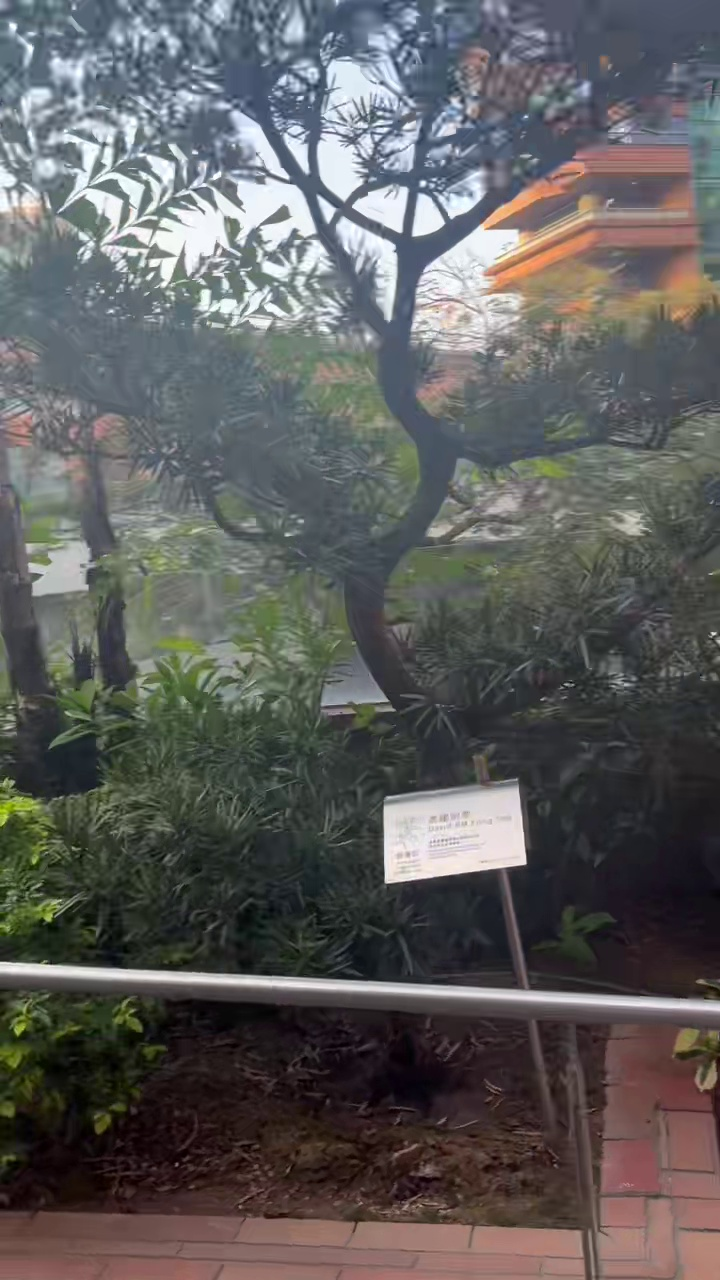Podocarpus macrophyllus: (0, 0, 719, 779)
